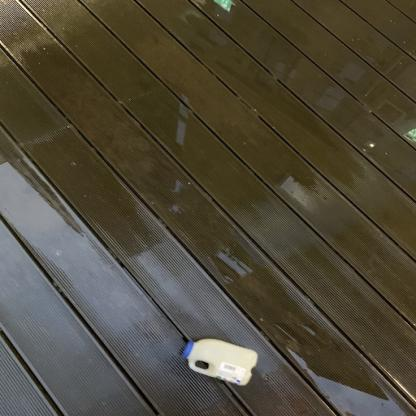trash: (176, 334, 264, 388)
